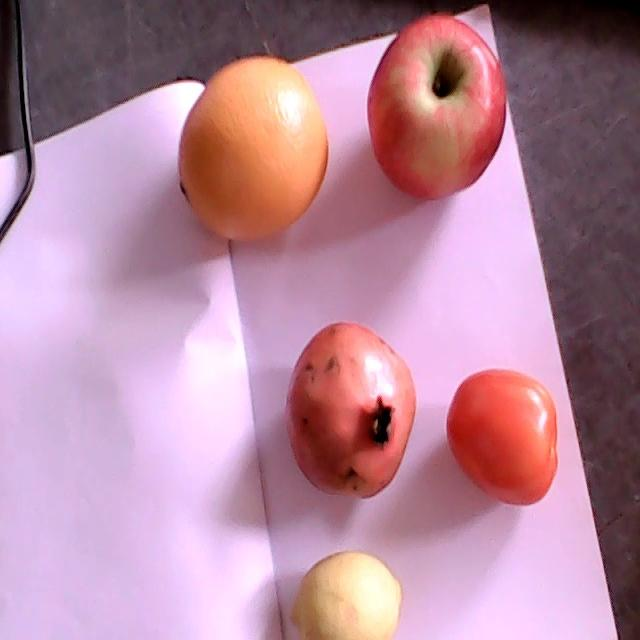apple: (367, 16, 506, 200)
lemon: (292, 552, 404, 639)
orange: (180, 57, 329, 240)
pomegranate: (284, 323, 417, 497)
tomato: (446, 371, 559, 504)
